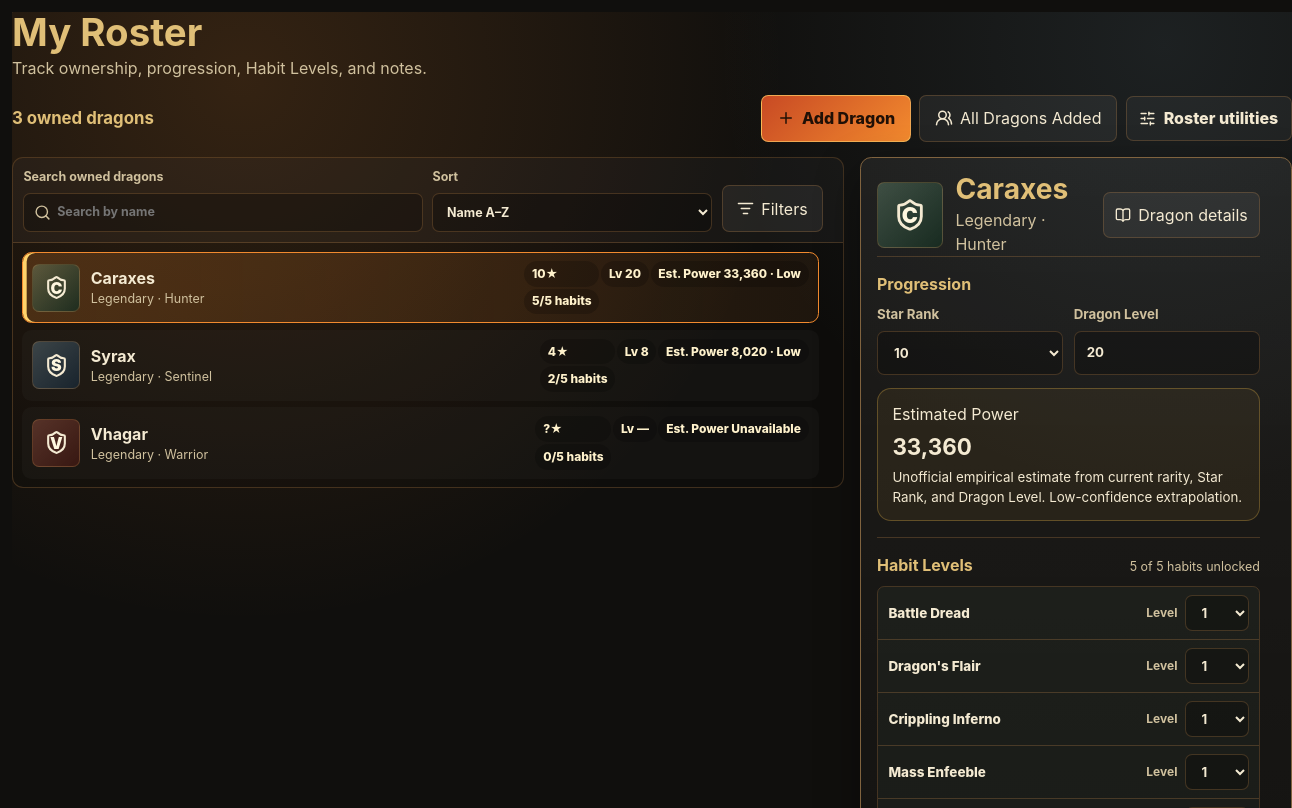
RosterWorkspace › renders every canonical Habit and only gives unlocked Habits Level 1–5 selectors
The width and height of the screenshot is (1292, 808).
Click the button with aria-label "Syrax,".
click(56, 365)  # box left=22, top=330, right=819, bottom=401
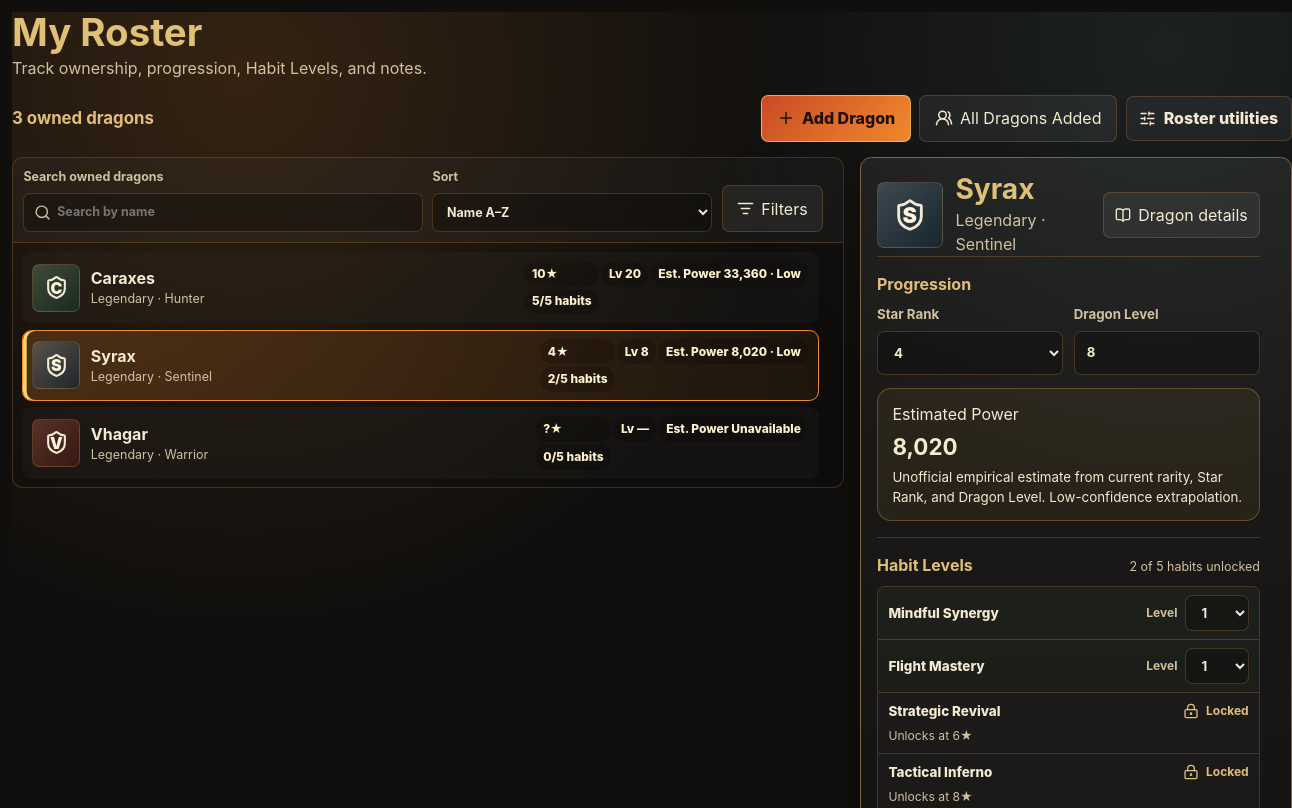
expect the text "Mindful Synergy" is shown: met, box left=888, top=605, right=999, bottom=621
expect the text "Flight Mastery" is shown: met, box left=888, top=658, right=985, bottom=674
expect the text "Strategic Revival" is shown: met, box left=888, top=703, right=1001, bottom=719
